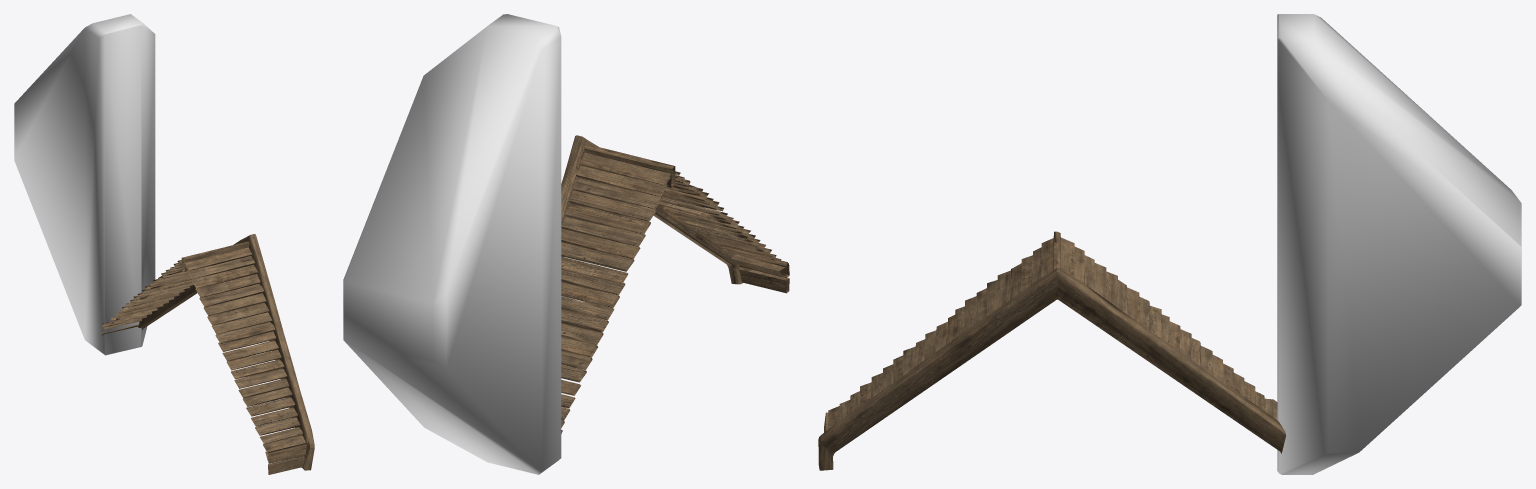
The model's file is SM_Roof_Main_E.fbx.
3 views of the same model, side by side, from view 1: azimuth 30°, elevation 25°; view 2: azimuth 150°, elevation 25°; view 3: azimuth 270°, elevation 25° (orthographic). The views are drawn at different scales.
Visible parts, largest first — view 1: SM_Roof_Main_E_ConvexHulls, SM_Roof_Main_E; view 2: SM_Roof_Main_E_ConvexHulls, SM_Roof_Main_E; view 3: SM_Roof_Main_E_ConvexHulls, SM_Roof_Main_E.
Boxes of the visible parts, x1,y1,x2,y2 form: SM_Roof_Main_E_ConvexHulls: [14, 14, 155, 355]; SM_Roof_Main_E: [101, 234, 314, 474]; SM_Roof_Main_E_ConvexHulls: [343, 14, 561, 474]; SM_Roof_Main_E: [561, 135, 789, 433]; SM_Roof_Main_E_ConvexHulls: [1277, 14, 1521, 474]; SM_Roof_Main_E: [818, 231, 1285, 470].
Bounding box in the file's own units: 2.99 × 12.63 × 18.48.
